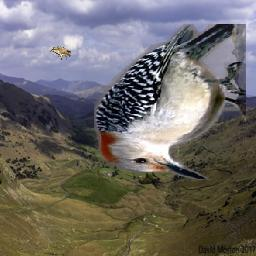Cuckoo: (51, 46, 72, 60)
Woodpecker: (94, 24, 246, 180)
